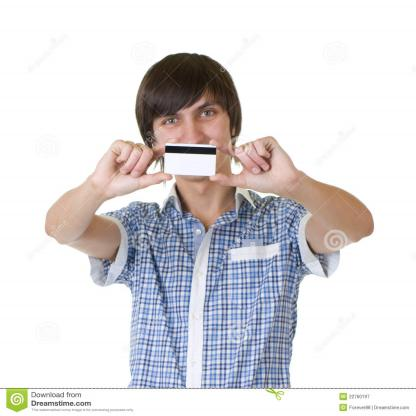tarjeta: (162, 141, 217, 176)
